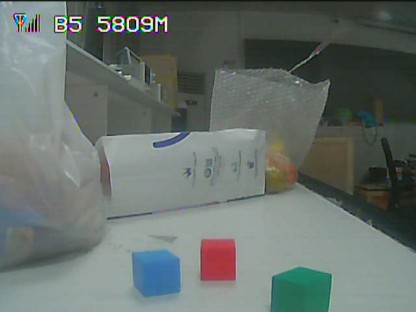b: (132, 252, 180, 292)
g: (274, 269, 328, 310)
r: (201, 240, 235, 278)
